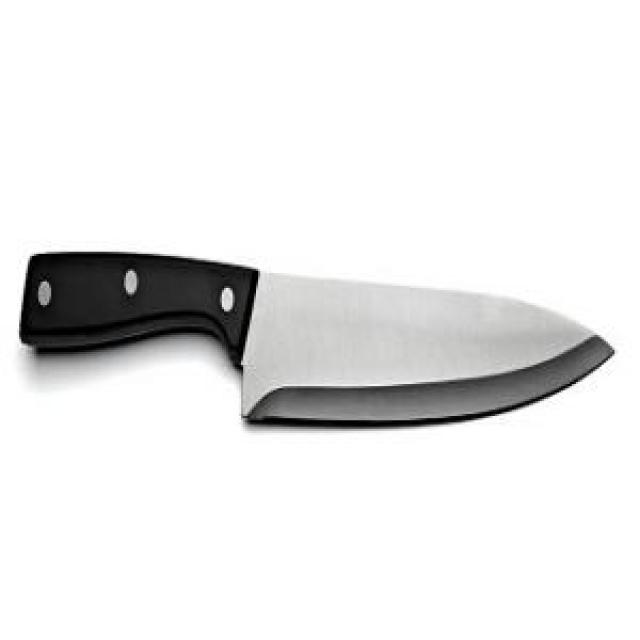knife: (22, 252, 614, 426)
